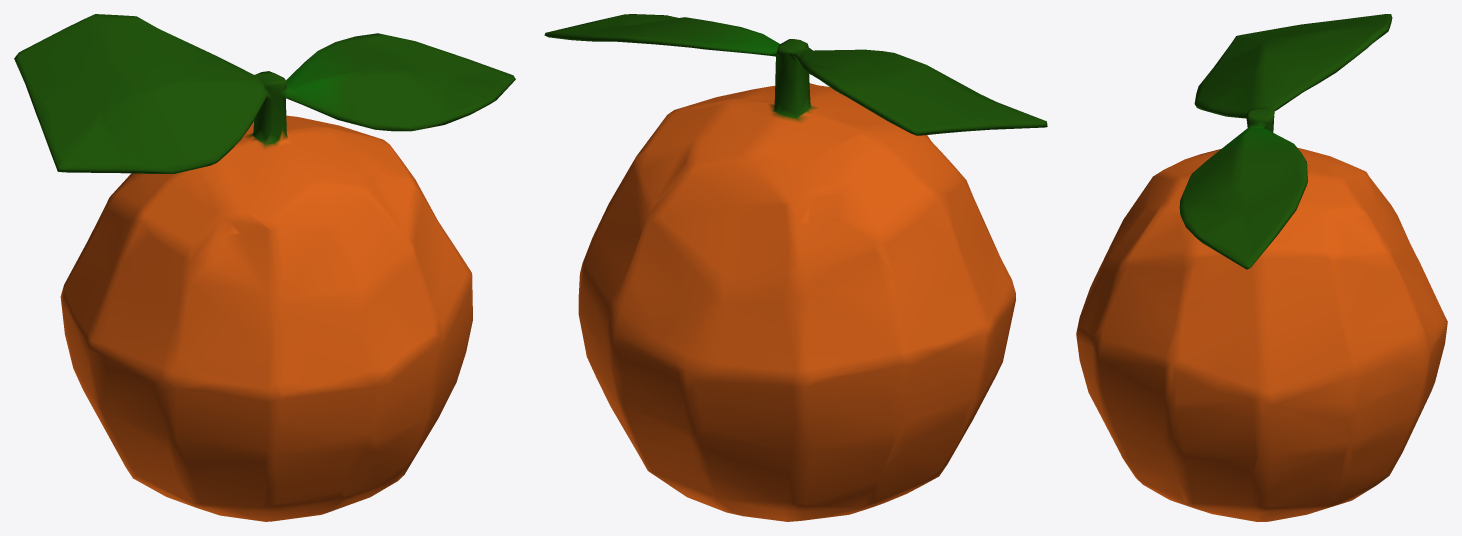
Rendered from gen3d-orange-lod0.glb.
The picture shows the model from 3 angles, left to right: view 1: azimuth 30°, elevation 25°; view 2: azimuth 150°, elevation 25°; view 3: azimuth 270°, elevation 25°; orthographic projection. The views are drawn at different scales.
Visible parts, largest first — view 1: part_0; view 2: part_0; view 3: part_0.
Boxes of the visible parts, x1,y1,x2,y2 form: part_0: (14, 14, 515, 521); part_0: (544, 14, 1047, 521); part_0: (1076, 14, 1447, 521).
Bounding box in the file's own units: 1.07 × 1 × 0.8104.
